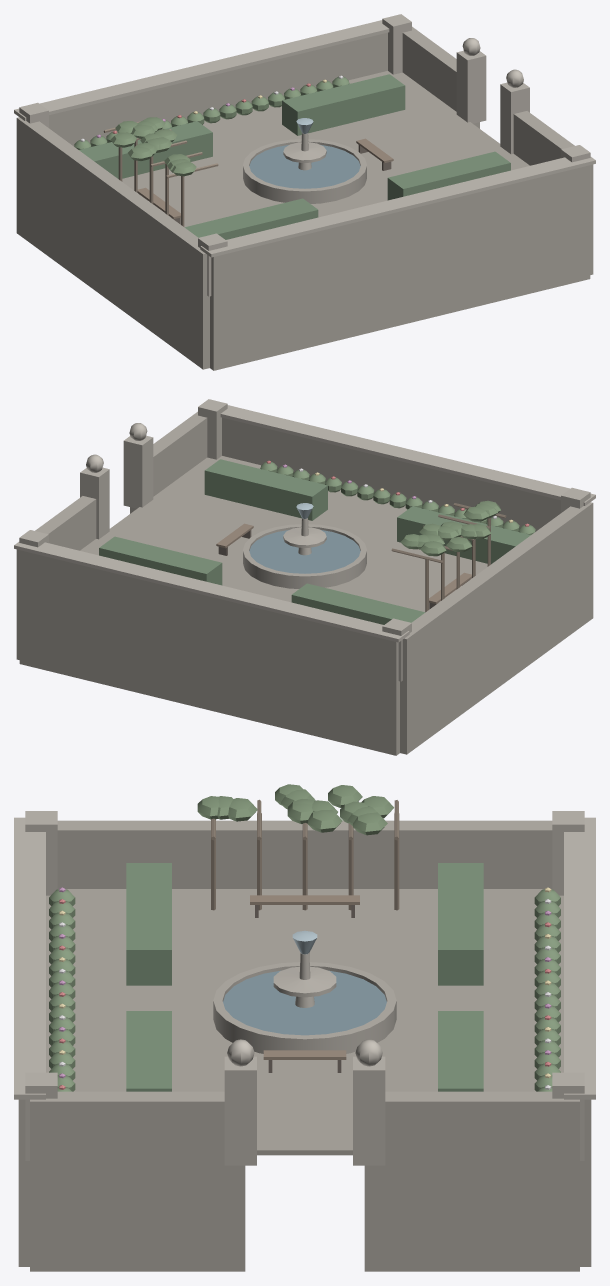
File: garden_3.gltf
3 views of the same model, one above another, from view 1: azimuth 30°, elevation 25°; view 2: azimuth 150°, elevation 25°; view 3: azimuth 270°, elevation 25° (orthographic). The views are drawn at different scales.
Parts seen in each view (by area): view 1: Body; view 2: Body; view 3: Body.
Part boxes in pixels (<box>): Body: <box>14,14,595,370</box>; Body: <box>14,399,595,755</box>; Body: <box>14,784,595,1271</box>.
Bounding box in the file's own units: 14.6 × 5.45 × 12.7.
